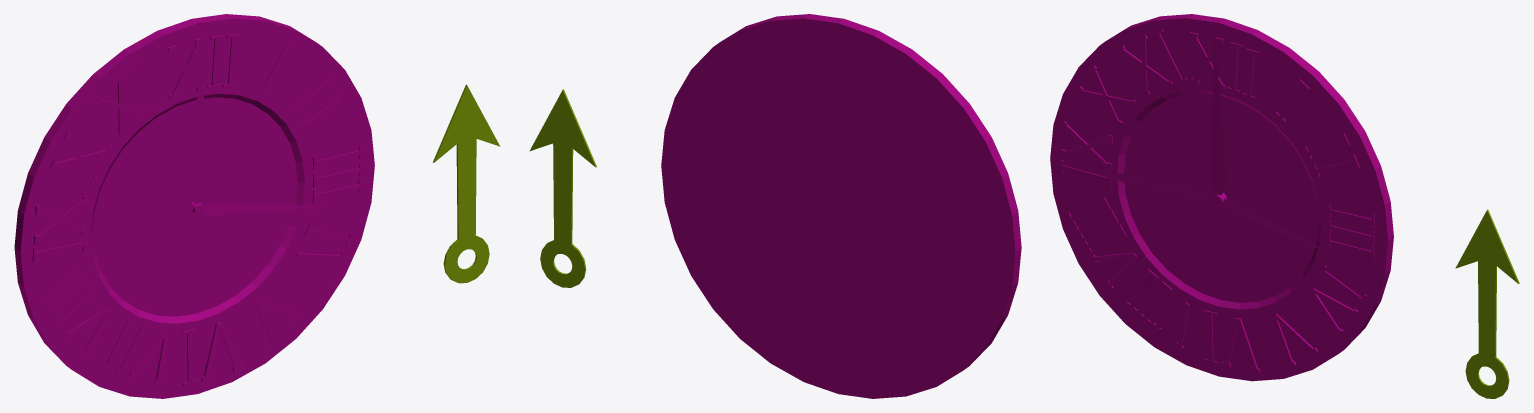
The model's file is 3D_armiboss.fbx.
3 views of the same model, side by side, from view 1: azimuth 30°, elevation 25°; view 2: azimuth 150°, elevation 25°; view 3: azimuth 330°, elevation 25° (orthographic). The views are drawn at different scales.
Visible parts, largest first — view 1: Circle.006, orologio, arrow, lancetta1, lancetta3, lancetta2; view 2: Circle.006, arrow; view 3: Circle.006, orologio, arrow, lancetta3, lancetta1, lancetta2.
Part boxes in pixels (left/top/right/bottom): Circle.006: left=14, top=14, right=374, bottom=398; orologio: left=32, top=33, right=361, bottom=385; arrow: left=433, top=84, right=500, bottom=283; lancetta1: left=190, top=36, right=205, bottom=204; lancetta3: left=34, top=204, right=192, bottom=251; lancetta2: left=202, top=201, right=324, bottom=214; Circle.006: left=661, top=14, right=1021, bottom=398; arrow: left=529, top=89, right=596, bottom=287; Circle.006: left=1050, top=14, right=1393, bottom=381; orologio: left=1060, top=29, right=1374, bottom=373; arrow: left=1455, top=209, right=1519, bottom=398; lancetta3: left=1055, top=162, right=1214, bottom=203; lancetta1: left=1211, top=35, right=1226, bottom=195; lancetta2: left=1223, top=199, right=1335, bottom=256.
Size of the model in its own units: 2.73 by 1.99 by 0.1115.
